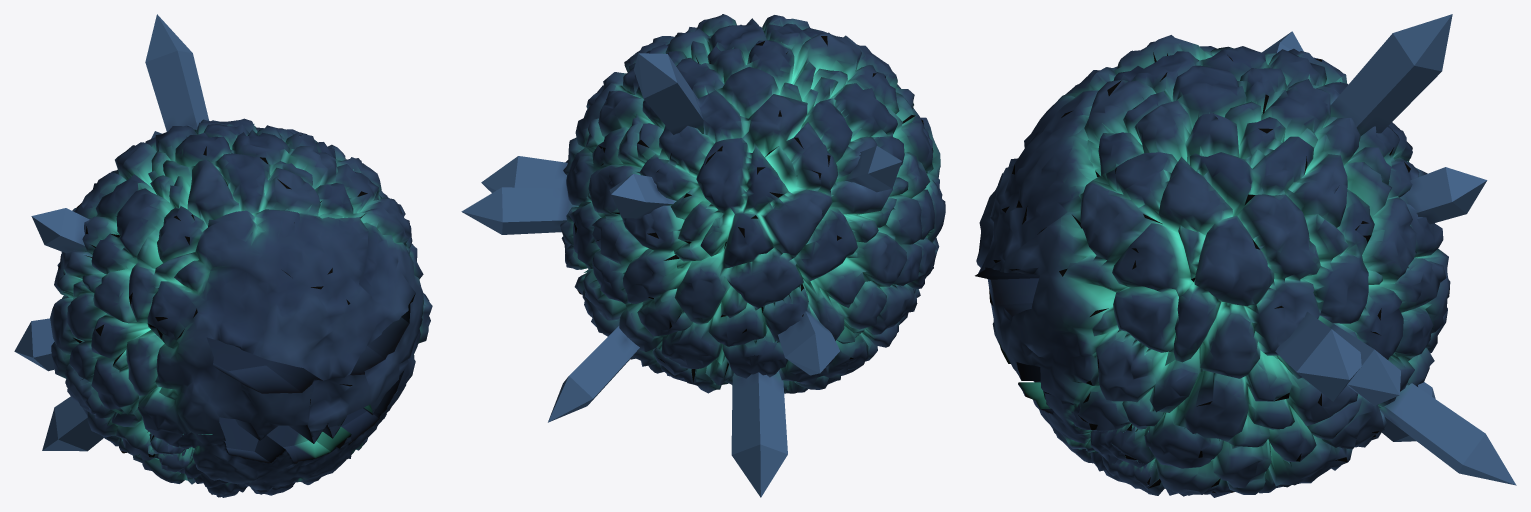
File: Aurora.fbx
3 renders of one model, left to right at view 1: azimuth 30°, elevation 25°; view 2: azimuth 150°, elevation 25°; view 3: azimuth 270°, elevation 25°, orthographic. The views are drawn at different scales.
Visible parts, largest first — view 1: Body, Jaw; view 2: Body; view 3: Body, Jaw.
Part boxes in pixels (x1,y1,x2,y2): Body: (14,14,432,496); Jaw: (146,384,406,497); Body: (461,14,945,497); Body: (975,14,1516,497); Jaw: (1000,347,1155,492).
Bounding box in the file's own units: 1.19 × 1.19 × 1.18.
Materials: 2 (2 with a texture image).
